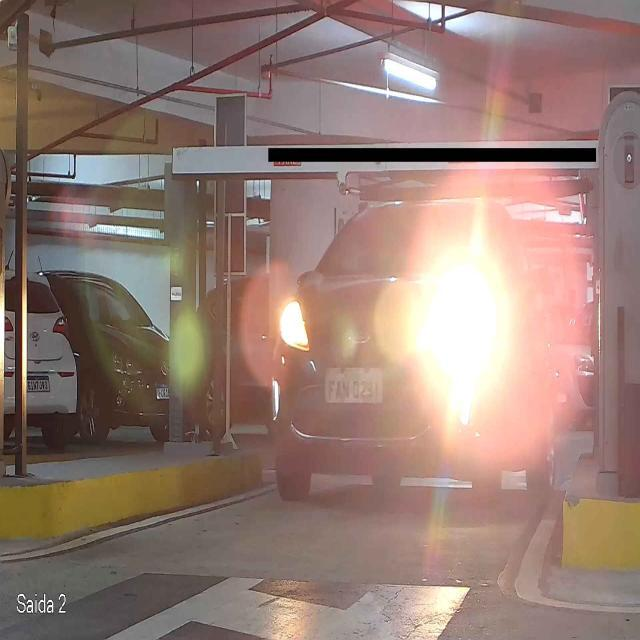old_plate: (323, 365, 385, 406)
